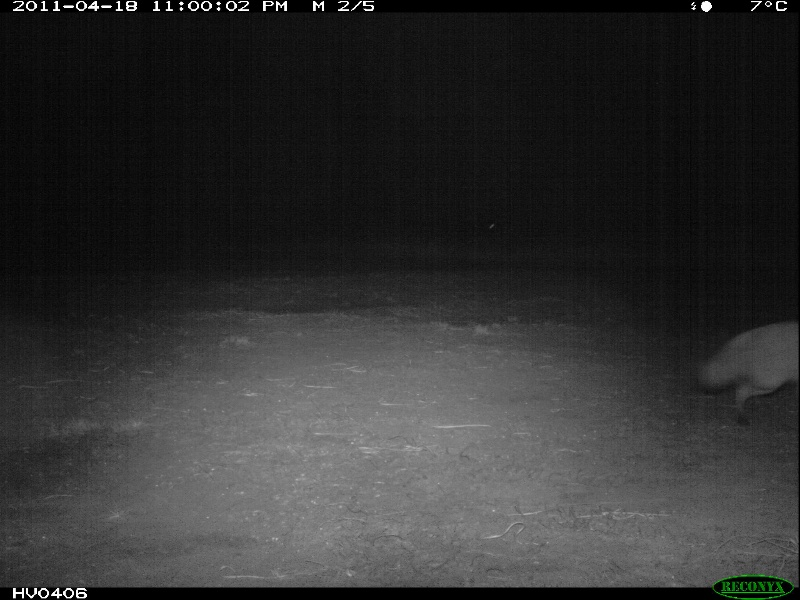fox: (702, 317, 800, 429)
